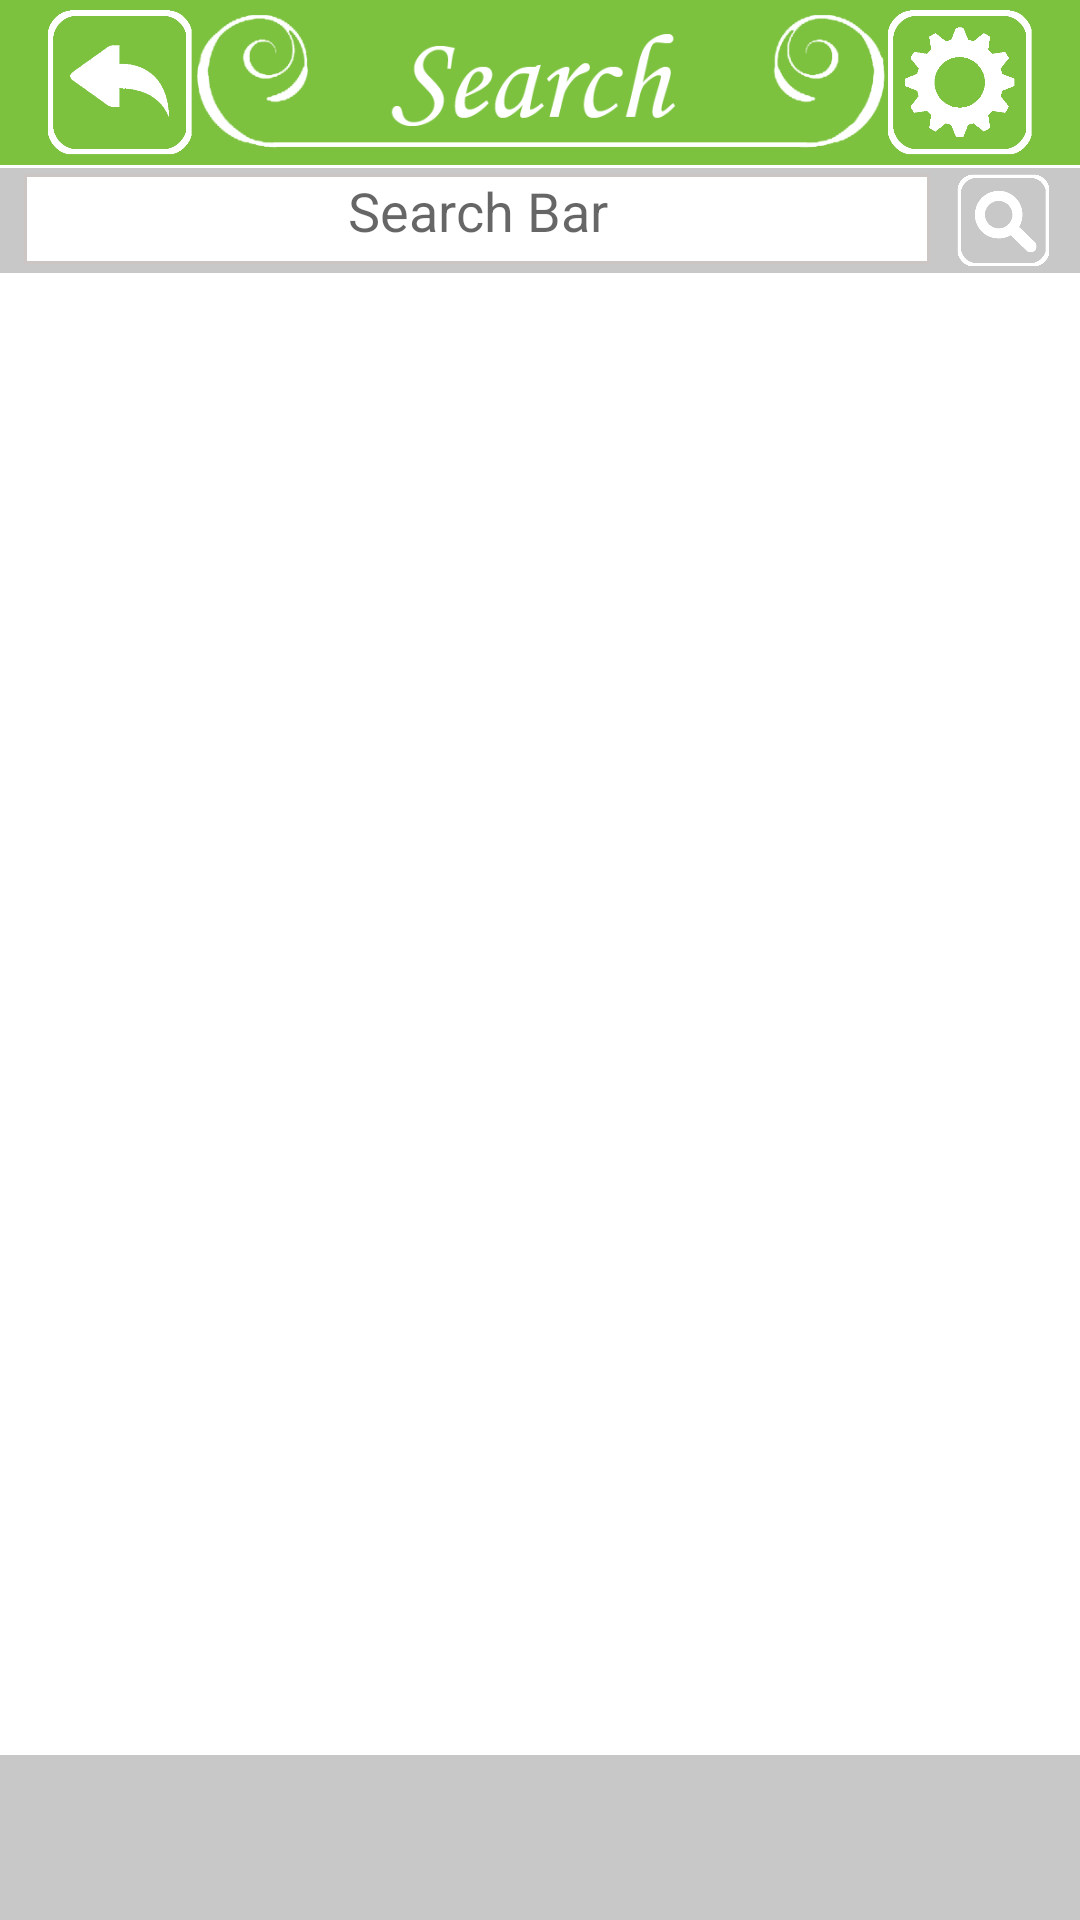

Icon click points for this 1080x1920 phone screenshot, format (x=x, y=y):
backbutton: (x=120, y=82)
searchbutton: (x=1003, y=220)
settingsbutton: (x=960, y=82)
